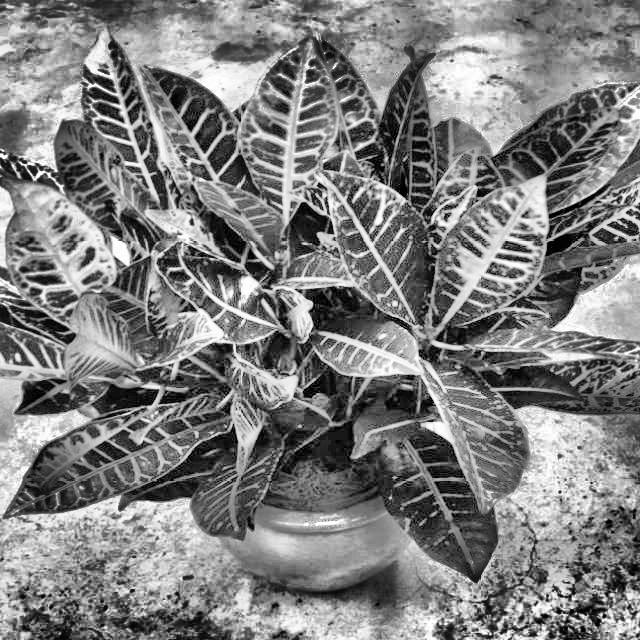plants: (42, 54, 552, 498)
